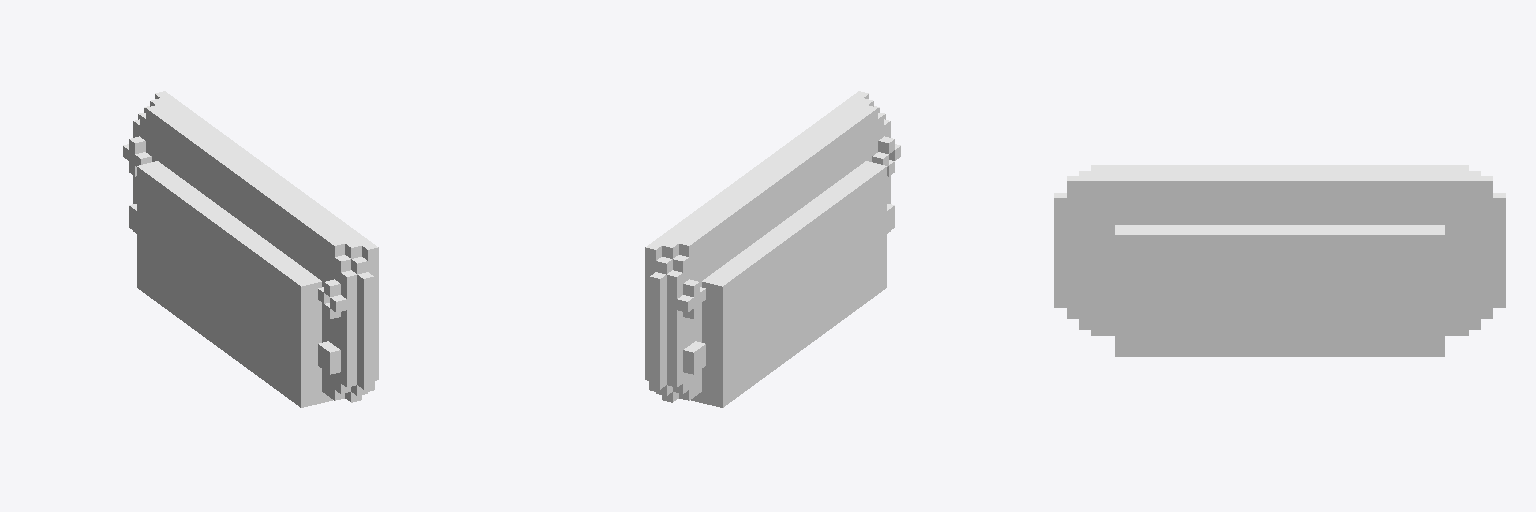
The model's file is NintendoSwitch.obj.
The picture shows the model from 3 angles: view 1: azimuth 30°, elevation 25°; view 2: azimuth 150°, elevation 25°; view 3: azimuth 270°, elevation 25°; orthographic projection.
Parts seen in each view (by area): view 1: object 1; view 2: object 1; view 3: object 1.
Boxes of the visible parts, box(x1,y1,x2,y2) form: object 1: box(123, 91, 378, 407); object 1: box(645, 91, 900, 407); object 1: box(1054, 165, 1505, 356).
Bounding box in the file's own units: 0.7 × 1.5 × 3.7.